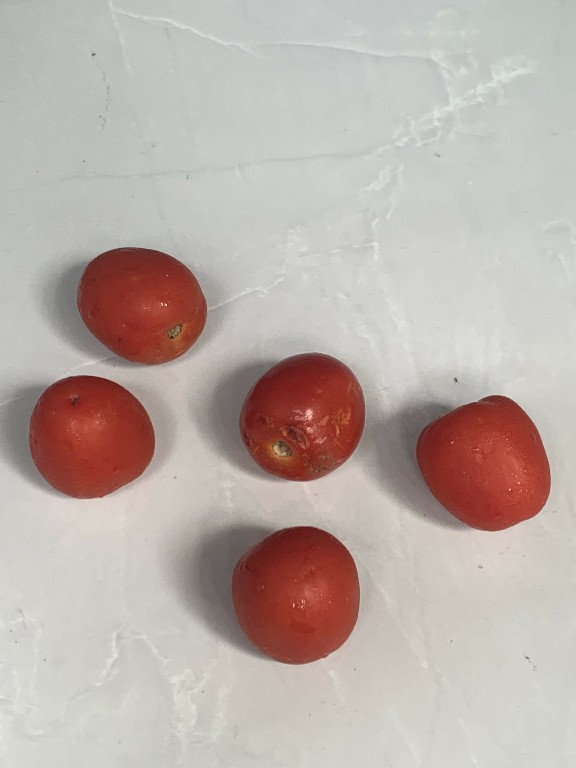NG: (231, 350, 375, 493)
OK: (401, 378, 554, 546), (74, 237, 222, 373), (228, 522, 363, 670), (23, 373, 166, 503)
